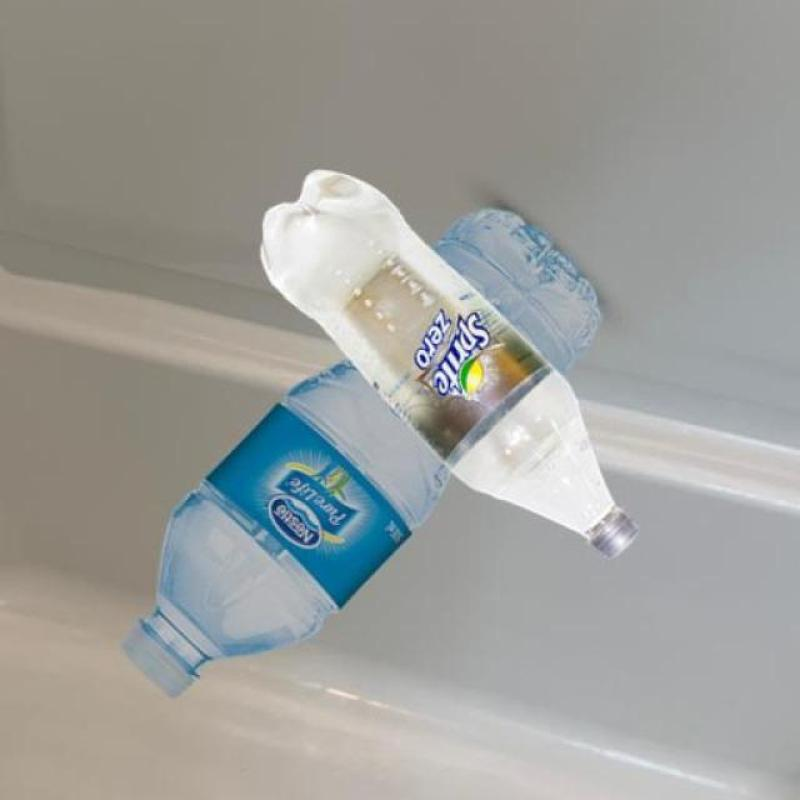botella: (118, 206, 602, 696), (260, 169, 640, 556)
